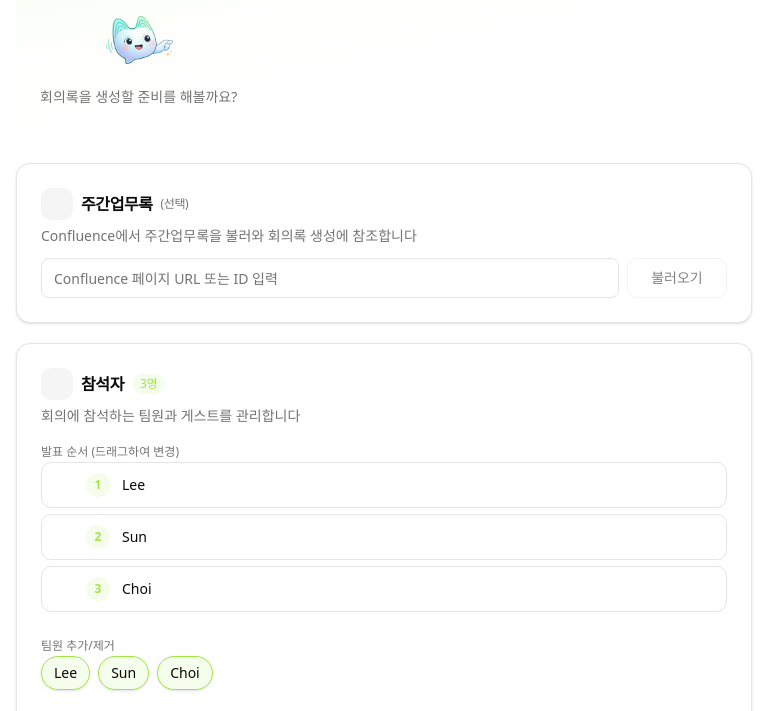
Test: MeetingSetupPage › Confluence Integration › enables load button when page ID is entered
Type "12345678" into the field with placeholder "Confluence 페이지 URL 또는 ID 입력".
click(330, 278); type("12345678")  # box top-left (41, 258), bottom-right (619, 298)
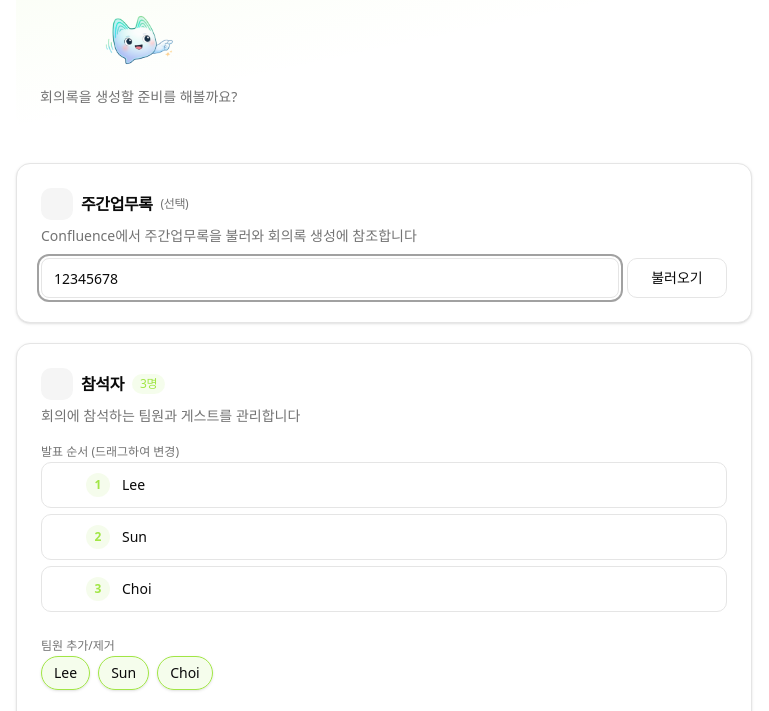
Expected: the button "불러오기" is enabled, top-left (627, 258), bottom-right (727, 298)
